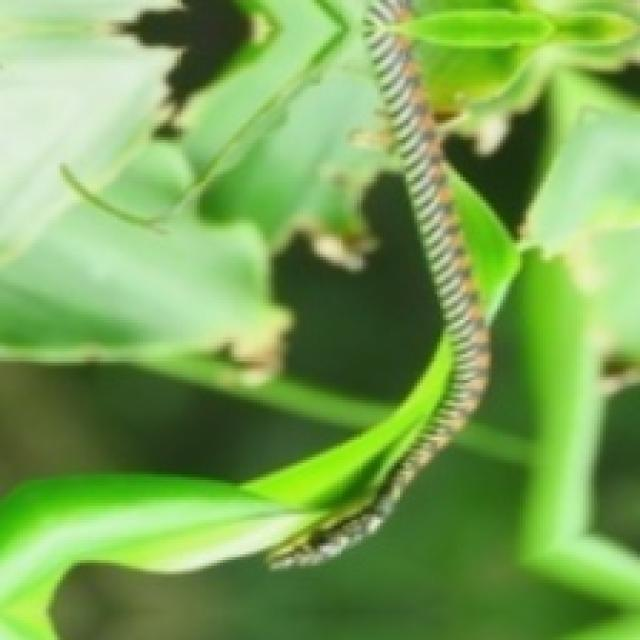paradise tree snake: (269, 0, 489, 566)
